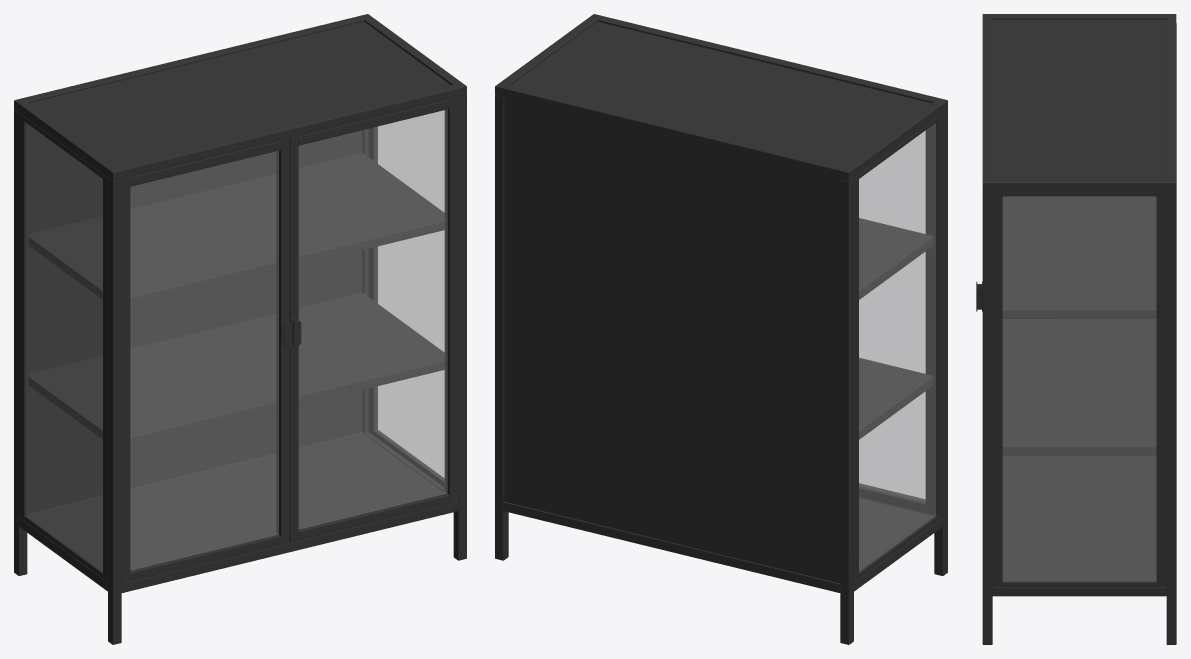
The model's file is blackCabinet.glb.
The picture shows the model from 3 angles, left to right: view 1: azimuth 30°, elevation 25°; view 2: azimuth 150°, elevation 25°; view 3: azimuth 270°, elevation 25°; orthographic projection. The views are drawn at different scales.
Parts seen in each view (by area): view 1: pPlane2 (×2); view 2: pPlane2 (×2); view 3: pPlane2 (×2).
Boxes of the visible parts, x1,y1,x2,y2 form: pPlane2 (×2): (14, 14, 466, 644); pPlane2 (×2): (495, 14, 947, 644); pPlane2 (×2): (976, 14, 1176, 644).
Size of the model in its own units: 0.8 by 1.02 by 0.4.
Materials: 2 (2 with a texture image).
